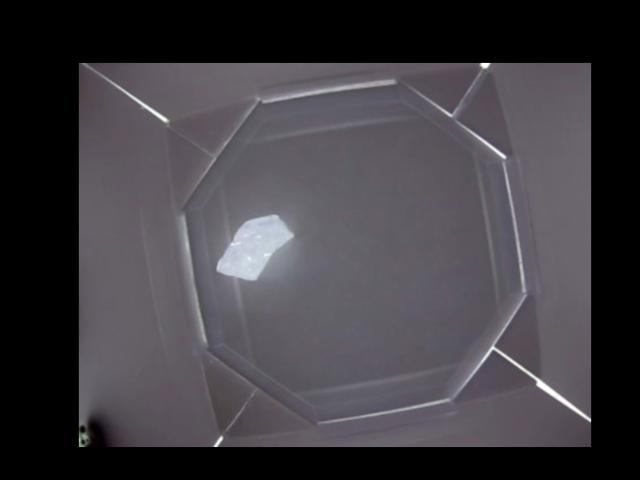China: (216, 212, 293, 281)
